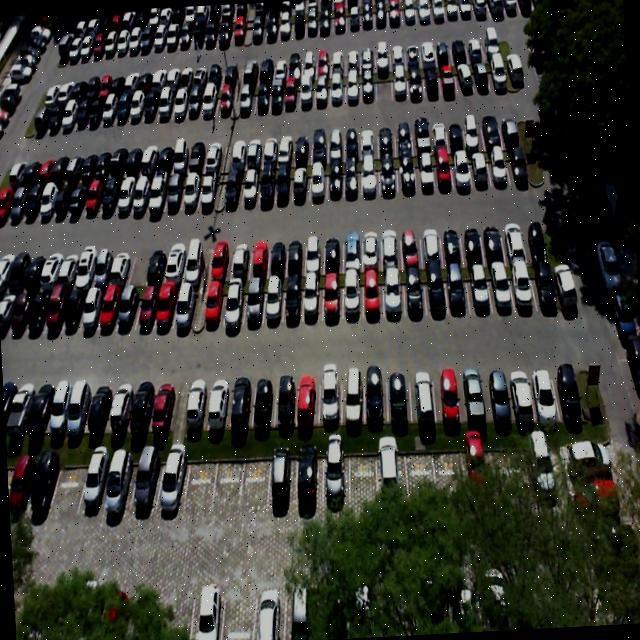empty: (129, 452, 167, 514), (48, 458, 88, 516), (238, 454, 274, 510), (550, 356, 584, 414), (266, 450, 301, 506), (182, 452, 218, 506), (226, 374, 260, 431), (210, 454, 247, 506), (504, 362, 536, 422), (320, 451, 353, 509), (26, 460, 63, 510), (528, 359, 558, 418), (482, 362, 511, 422), (296, 450, 326, 507), (113, 280, 145, 333), (432, 368, 462, 424), (65, 380, 96, 434), (84, 382, 116, 434), (107, 382, 139, 434), (456, 366, 486, 421), (132, 276, 162, 330), (219, 276, 249, 330), (316, 371, 343, 429), (150, 281, 180, 333), (128, 379, 158, 431), (248, 375, 278, 427), (270, 376, 300, 428), (205, 375, 234, 427), (530, 257, 560, 307), (150, 382, 180, 432), (410, 369, 437, 423), (238, 277, 266, 329), (338, 370, 366, 422), (363, 368, 389, 424), (97, 280, 124, 332), (260, 272, 286, 326), (386, 367, 412, 421), (480, 216, 508, 266), (172, 278, 198, 331), (486, 262, 514, 311), (294, 374, 320, 426), (183, 380, 211, 427), (202, 278, 225, 334), (440, 217, 466, 266), (125, 243, 154, 286), (142, 243, 170, 286), (302, 275, 326, 325), (503, 215, 528, 262), (108, 246, 137, 286), (178, 168, 204, 212), (509, 265, 534, 310), (524, 217, 550, 260), (362, 272, 385, 320), (146, 171, 171, 215), (281, 276, 303, 326), (444, 268, 469, 312), (130, 171, 156, 213), (505, 143, 531, 185), (162, 244, 190, 283), (282, 233, 308, 275), (321, 276, 344, 323), (468, 265, 490, 314), (184, 243, 210, 284), (164, 170, 188, 214), (422, 221, 444, 269), (404, 268, 426, 315), (402, 220, 424, 266), (462, 219, 484, 265), (426, 270, 448, 316), (196, 169, 220, 211), (379, 226, 403, 268), (225, 240, 250, 280), (383, 271, 404, 318), (222, 166, 245, 208), (344, 272, 364, 320), (303, 232, 326, 273), (209, 242, 233, 280), (342, 228, 362, 272), (265, 237, 288, 275), (248, 236, 270, 275), (320, 233, 342, 272), (472, 146, 492, 188), (361, 230, 382, 270), (292, 164, 312, 204), (275, 163, 294, 205), (488, 148, 510, 184), (242, 167, 262, 206), (361, 157, 381, 196), (453, 152, 474, 189), (260, 166, 278, 208), (325, 162, 344, 200), (381, 156, 399, 195), (398, 156, 417, 192), (416, 155, 435, 191), (309, 164, 327, 200), (434, 153, 453, 187), (344, 160, 362, 194)
occupied: (100, 456, 140, 514), (76, 458, 114, 515), (154, 452, 190, 510)
